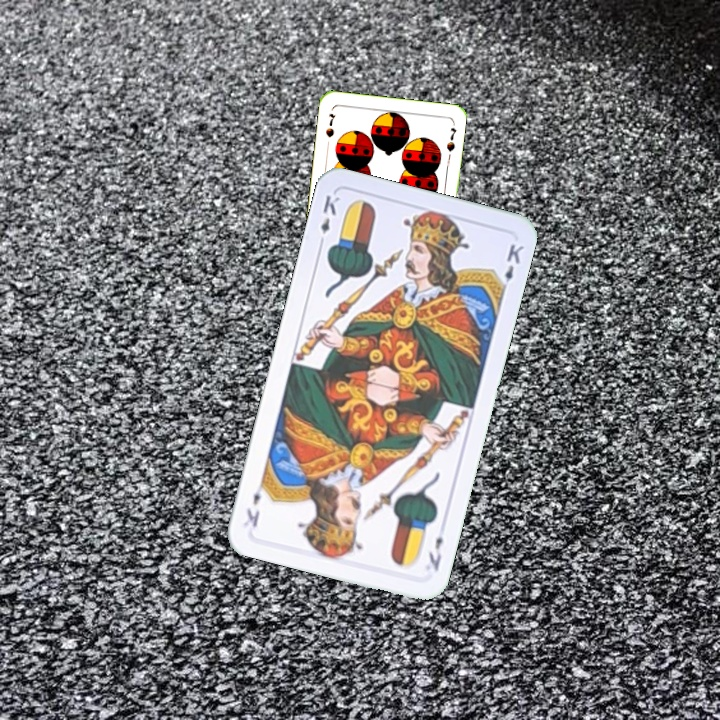EK: (314, 191, 342, 249), (424, 532, 446, 574)
S7: (322, 109, 338, 140)
